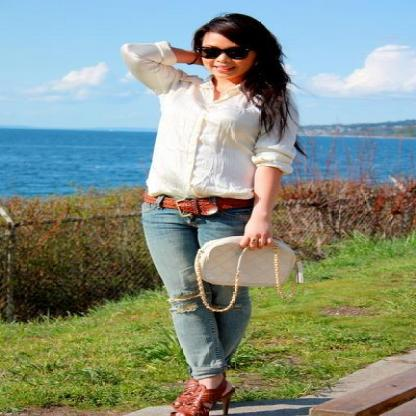bag: (195, 237, 302, 311)
pants: (141, 208, 250, 374)
shirt: (120, 40, 312, 201)
shoe: (169, 360, 239, 416)
sunglass: (188, 36, 254, 65)
